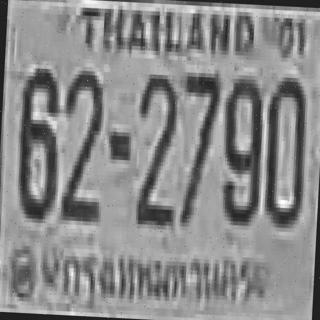N00: (262, 73, 307, 225)
N02: (134, 70, 178, 226), (60, 68, 105, 220)
N06: (15, 66, 60, 218)
N07: (176, 68, 219, 224)
N09: (218, 72, 263, 224)
P04: (61, 235, 272, 315)
